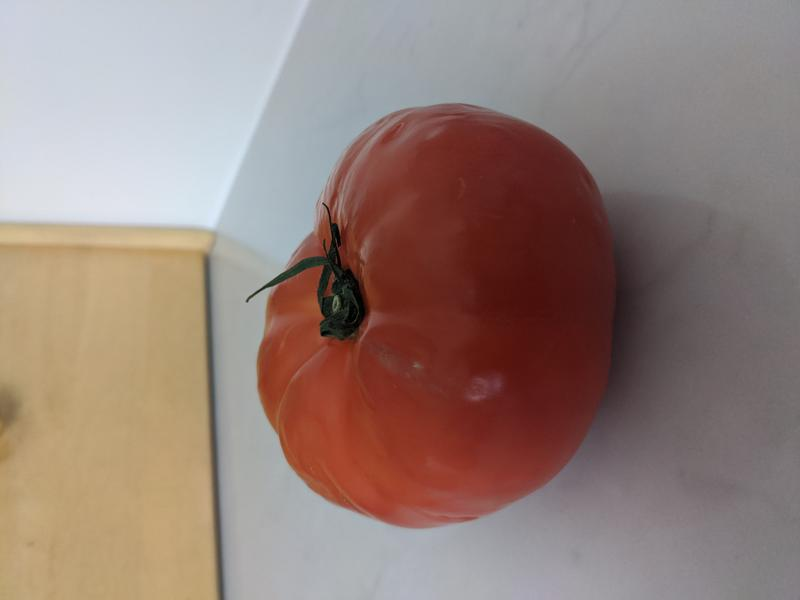tomato: (255, 103, 619, 529)
